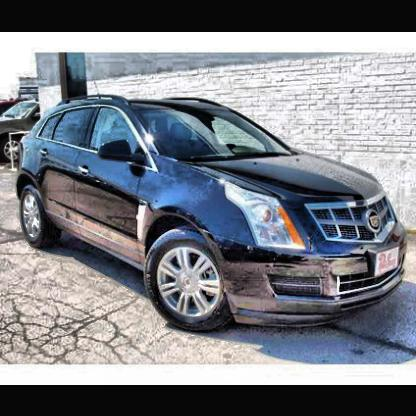Cadillac SRX SUV 2012: (16, 81, 410, 336)
